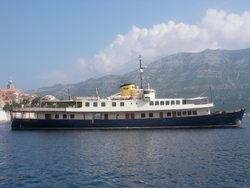youlun: (15, 75, 245, 132)
